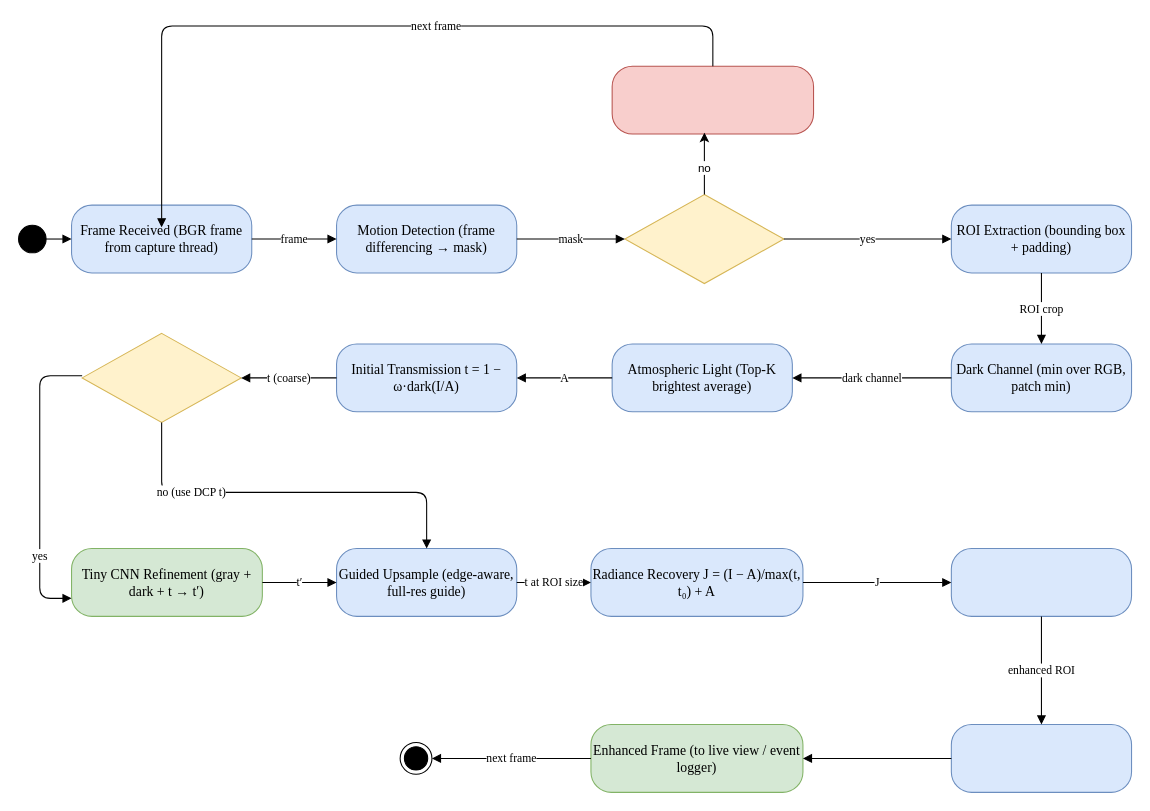
The diagram is 1150 pixels wide and 811 high, and some of its shapes have lost their labels. Here are the shapes that lost their labels. From the top down, the centre of each, then its label:
At pixel 712 99: "Skipped (no dehazing, frame passed through)".
At pixel 704 238: "motion ≥ min area and in zone/schedule?".
At pixel 161 377: "Tiny CNN loaded?".
At pixel 1041 581: "Gamma Correction".
At pixel 1041 757: "Merge ROI into Frame".
